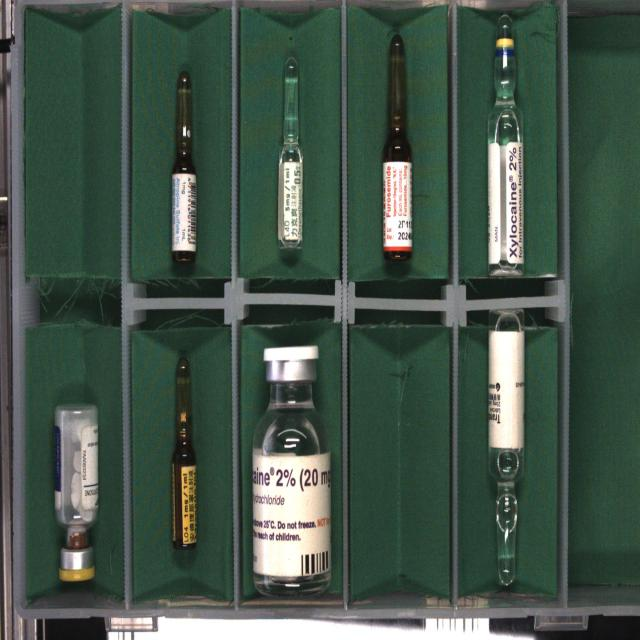Vials: (252, 346, 331, 596), (53, 405, 98, 582)
